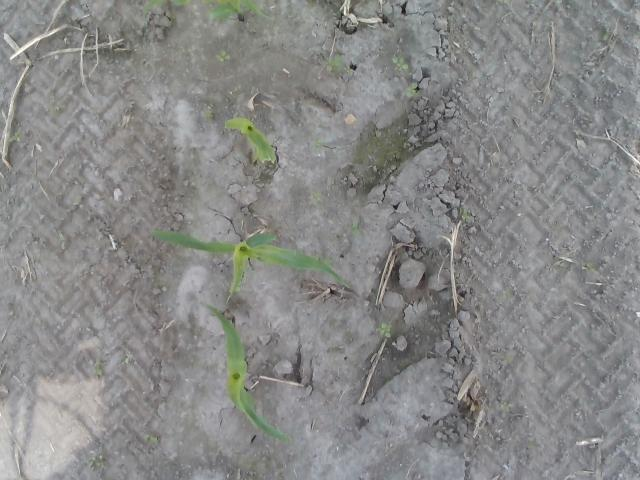Maize: (148, 228, 352, 304), (198, 300, 296, 444), (224, 118, 276, 166), (208, 0, 270, 20)
Weeds: (326, 54, 346, 76), (86, 458, 108, 473), (376, 322, 392, 341), (92, 356, 105, 378), (404, 83, 420, 99), (8, 126, 22, 144), (460, 206, 475, 222), (392, 57, 408, 72), (142, 434, 159, 445), (310, 191, 322, 206), (217, 50, 230, 63), (580, 261, 594, 273), (308, 141, 326, 150), (203, 106, 215, 118), (350, 220, 360, 234), (602, 28, 611, 42), (500, 402, 513, 411), (502, 288, 510, 298), (122, 358, 132, 366)
